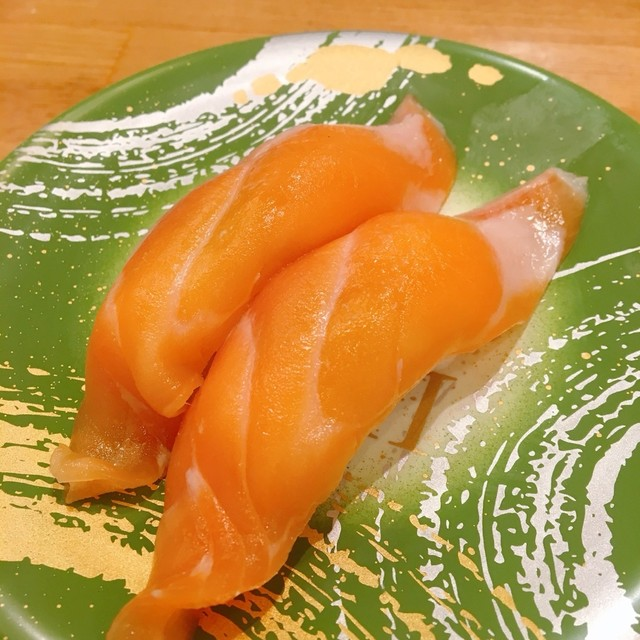salmon: (65, 106, 588, 628)
